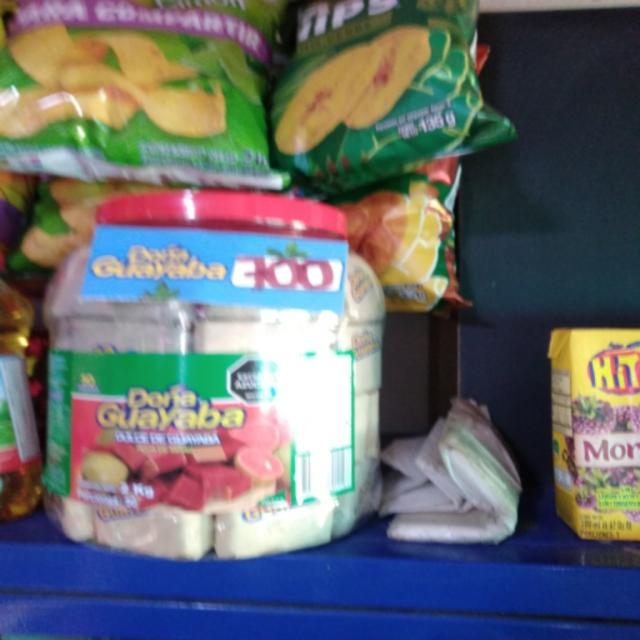Precio: (233, 254, 341, 300)
